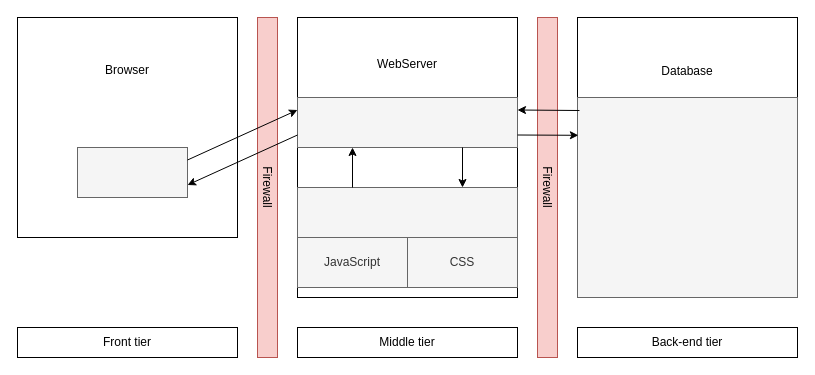
Some shapes in this 815 by 375 pixel diagram are drawn without their labels. Here are the shapes that lost their labels. From the top down, the centre of each, then its label:
At [407,122]: "Python".
At [132,172]: "HTTP".
At [407,212]: "HTML".
At [687,197]: "SQL".
